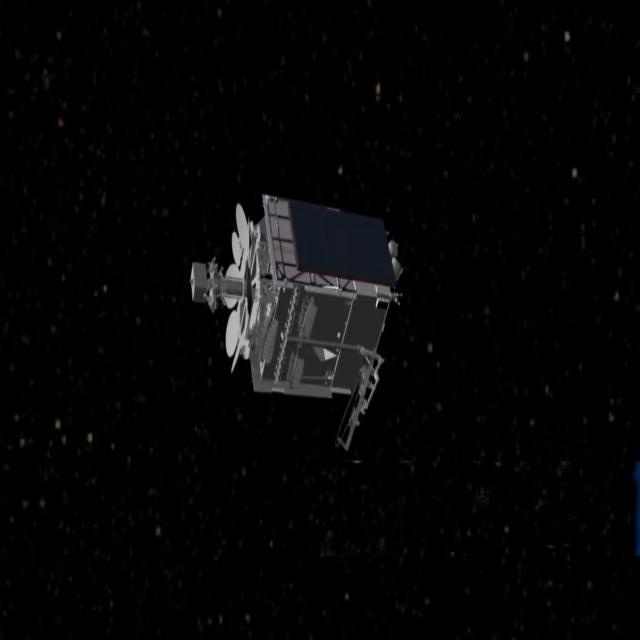medium_debris: (183, 181, 399, 470)
